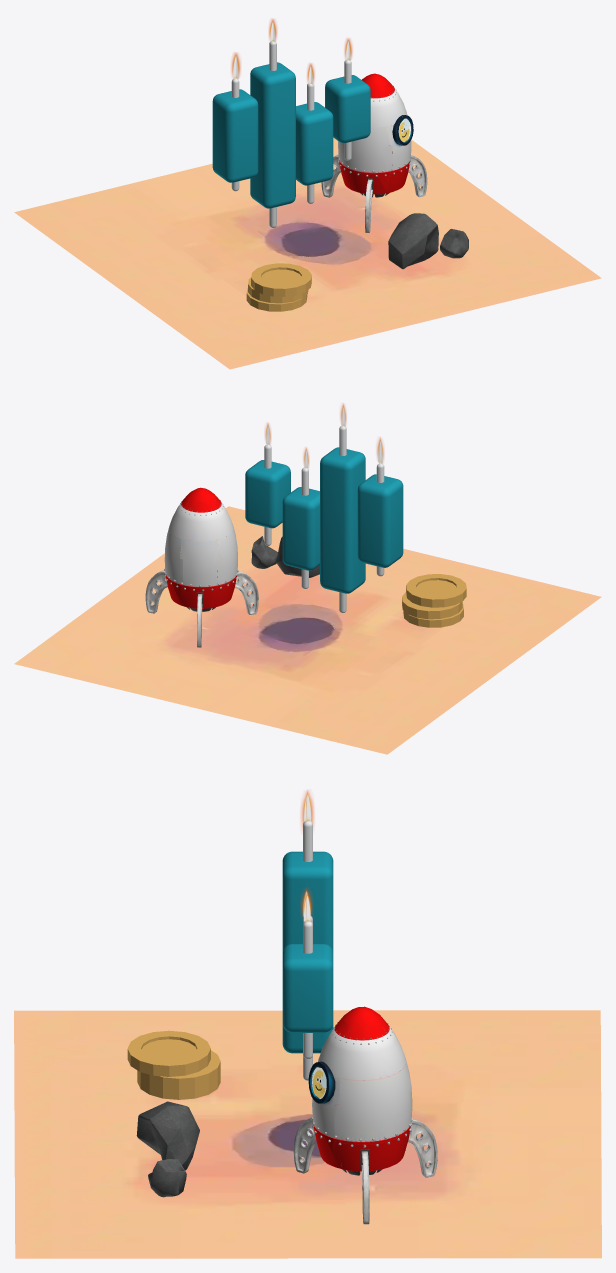
File: small_altar2.glb
3 renders of one model, top to bottom at view 1: azimuth 30°, elevation 25°; view 2: azimuth 150°, elevation 25°; view 3: azimuth 270°, elevation 25°, orthographic. The views are drawn at different scales.
Parts seen in each view (by area): view 1: Object_4, Japanese candles_1, Sphere098_01 - Default_0.001, Moon_rock.011, bitcoin_Material_0.002, object 5, Moon_rock.006, bitcoin; view 2: Object_4, Japanese candles_1, Sphere098_01 - Default_0.001, bitcoin_Material_0.002, object 5, bitcoin_Material_0.001, Moon_rock.006, bitcoin; view 3: Object_4, Sphere098_01 - Default_0.001, Japanese candles_1, bitcoin_Material_0.002, Moon_rock.011, bitcoin_Material_0.001, object 5, Moon_rock.006, bitcoin.
Boxes of the visible parts, <box> form: Object_4: <box>14,137,601,369</box>; Japanese candles_1: <box>212,62,370,208</box>; Sphere098_01 - Default_0.001: <box>321,73,427,232</box>; Moon_rock.011: <box>388,213,438,269</box>; bitcoin_Material_0.002: <box>251,263,311,296</box>; object 5: <box>231,41,351,227</box>; Moon_rock.006: <box>440,229,468,258</box>; bitcoin: <box>246,288,307,311</box>; Object_4: <box>14,506,601,754</box>; Japanese candles_1: <box>245,447,403,593</box>; Sphere098_01 - Default_0.001: <box>145,487,258,647</box>; bitcoin_Material_0.002: <box>406,574,466,607</box>; object 5: <box>264,425,384,612</box>; bitcoin_Material_0.001: <box>402,592,462,619</box>; Moon_rock.006: <box>251,536,277,568</box>; bitcoin: <box>403,604,463,627</box>; Object_4: <box>14,1010,601,1258</box>; Sphere098_01 - Default_0.001: <box>293,1006,437,1224</box>; Japanese candles_1: <box>282,851,333,1053</box>; bitcoin_Material_0.002: <box>127,1030,210,1076</box>; Moon_rock.011: <box>136,1101,199,1170</box>; bitcoin_Material_0.001: <box>137,1050,220,1089</box>; object 5: <box>303,820,312,1080</box>; Moon_rock.006: <box>148,1159,186,1197</box>; bitcoin: <box>137,1072,220,1099</box>.
Size of the model in its own units: 0.6205 by 0.3793 by 0.6205.
8 materials, 5 textured.
